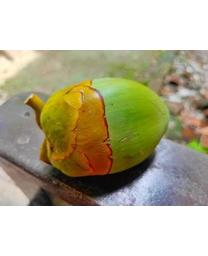coconut: (19, 75, 170, 175)
